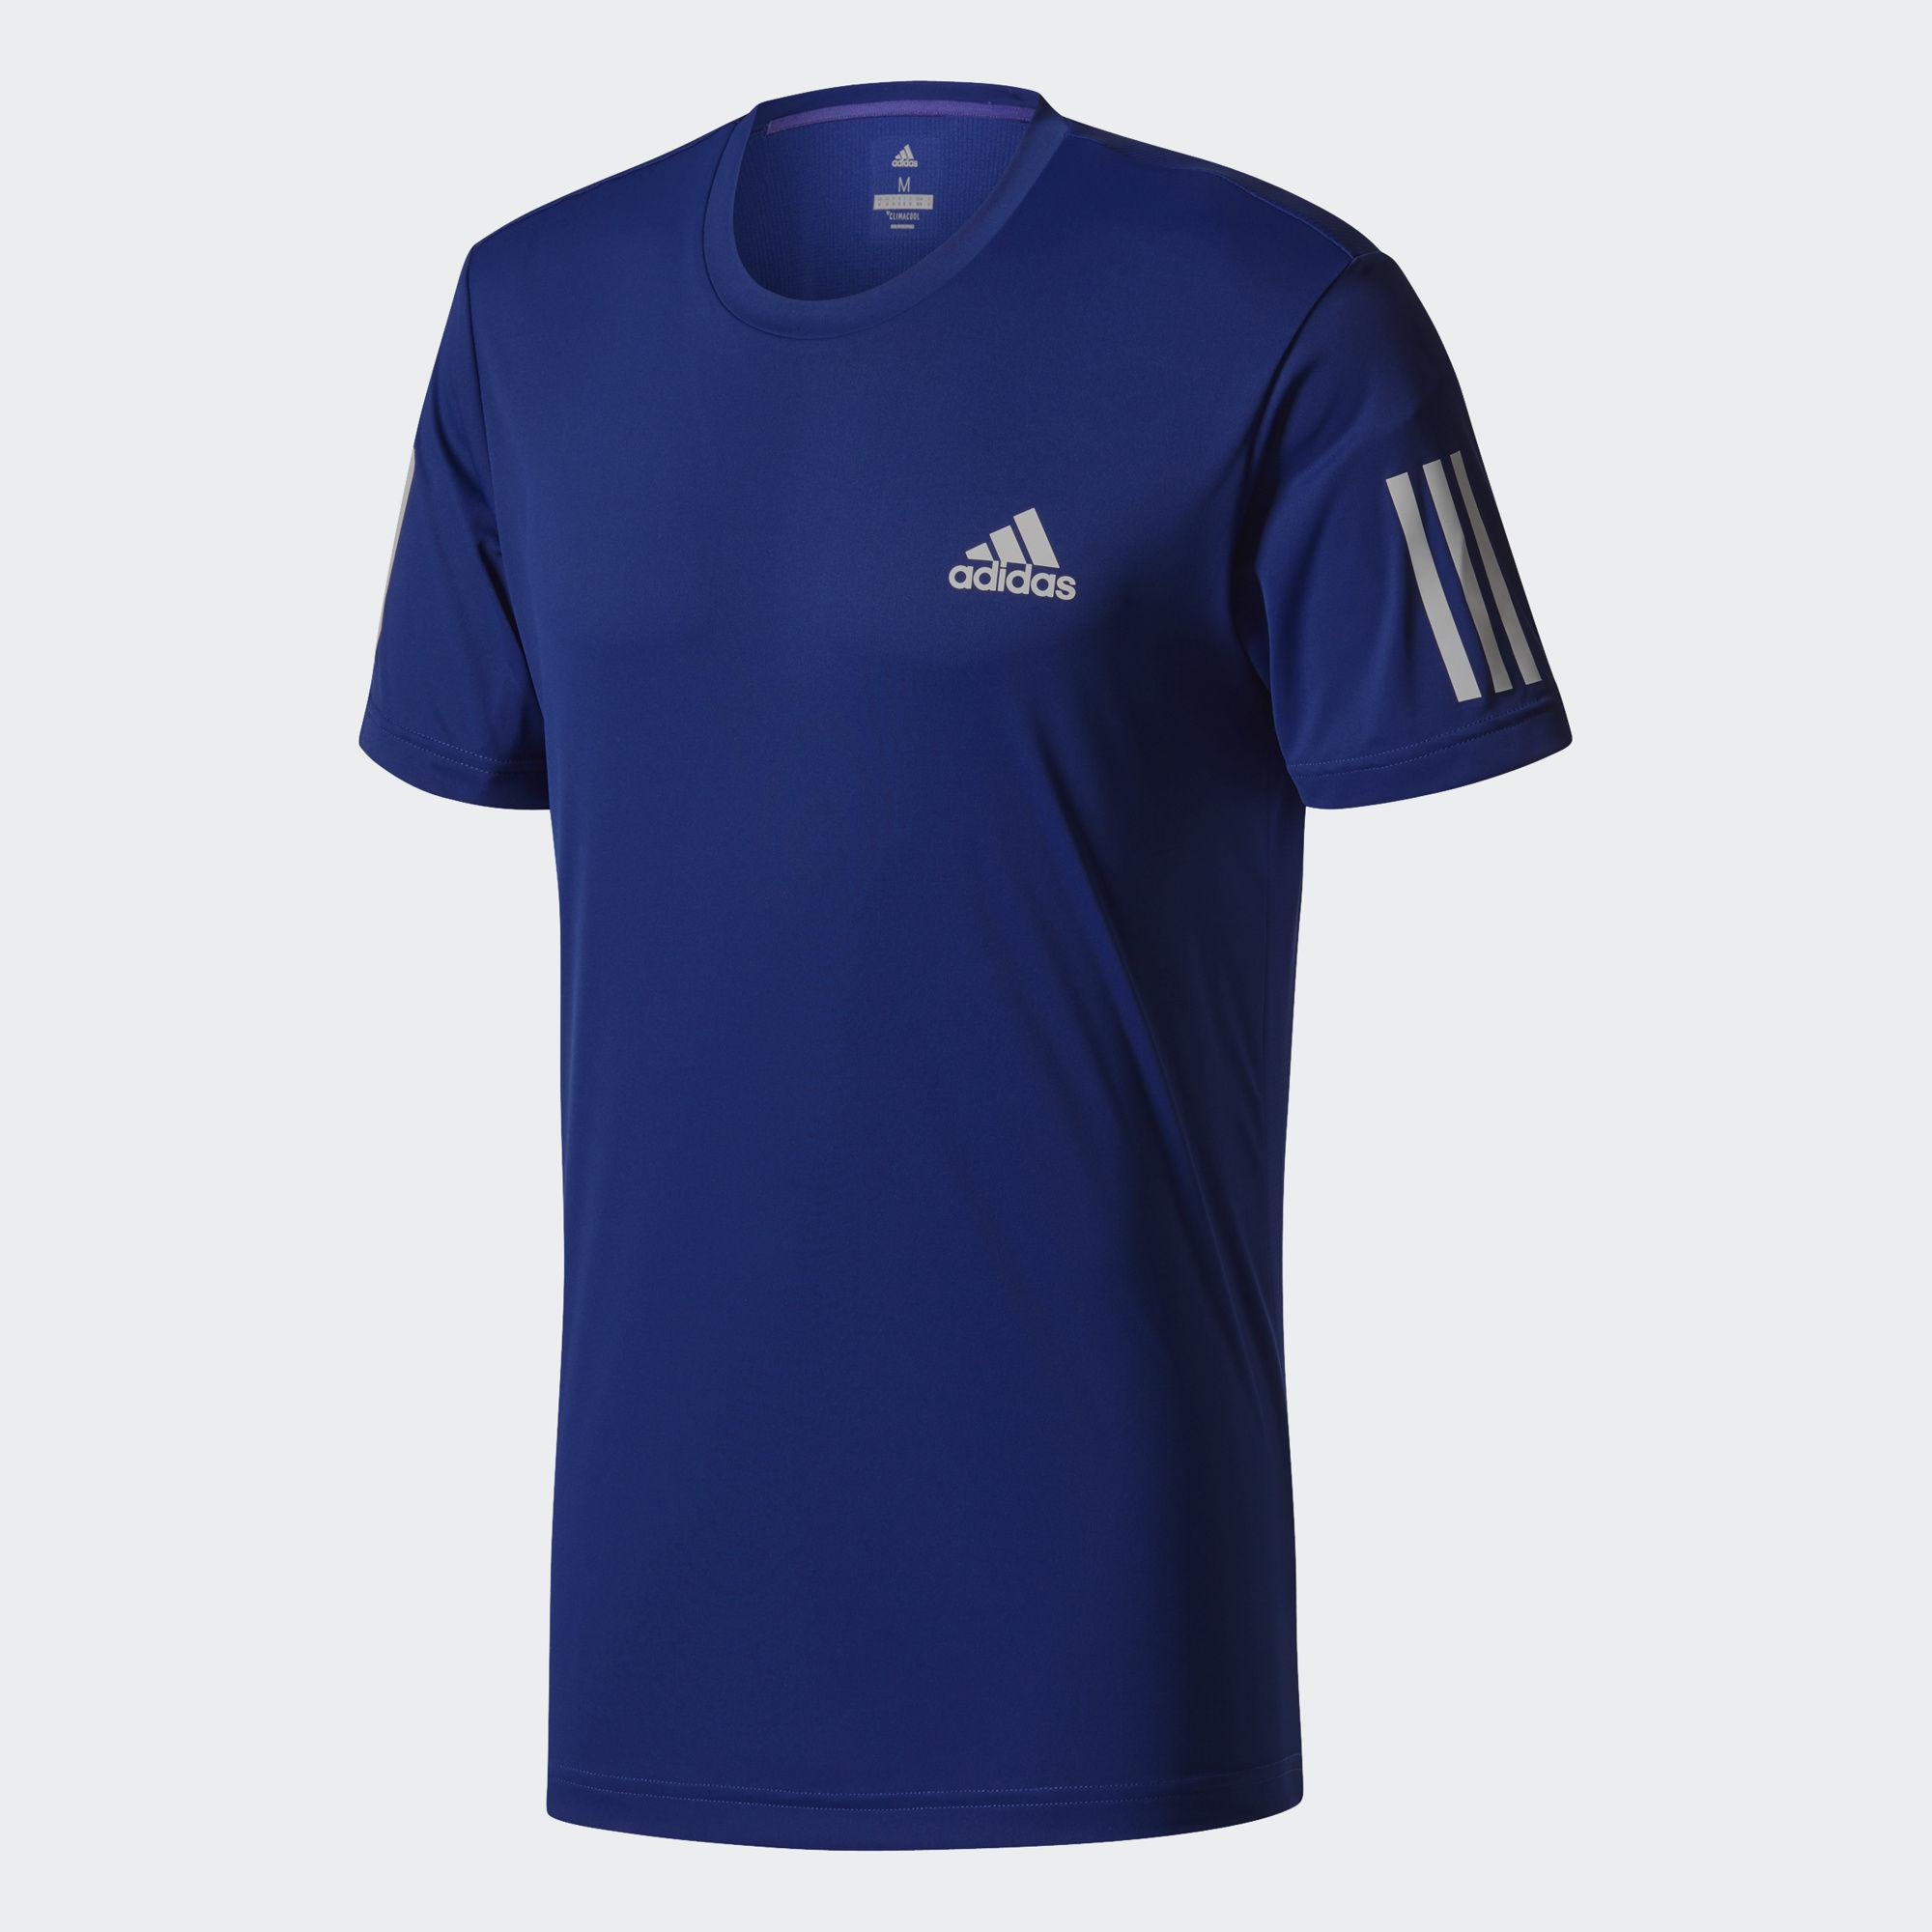teeshirt: (214, 60, 1585, 1932)
